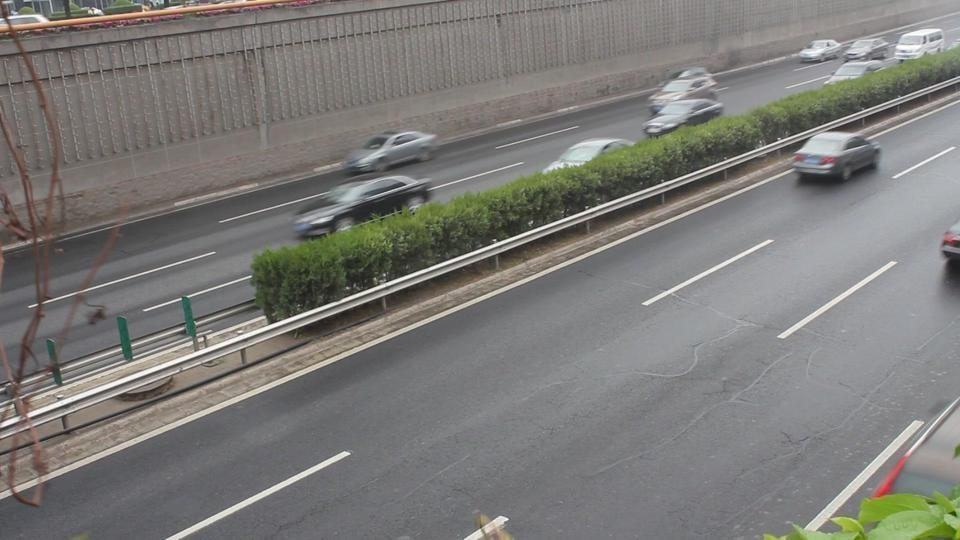car: (290, 174, 436, 240), (792, 131, 883, 184), (342, 129, 439, 177), (647, 66, 722, 112), (642, 98, 724, 137), (546, 137, 635, 170), (894, 28, 945, 61), (843, 35, 892, 62), (798, 39, 847, 64), (940, 220, 960, 266)
